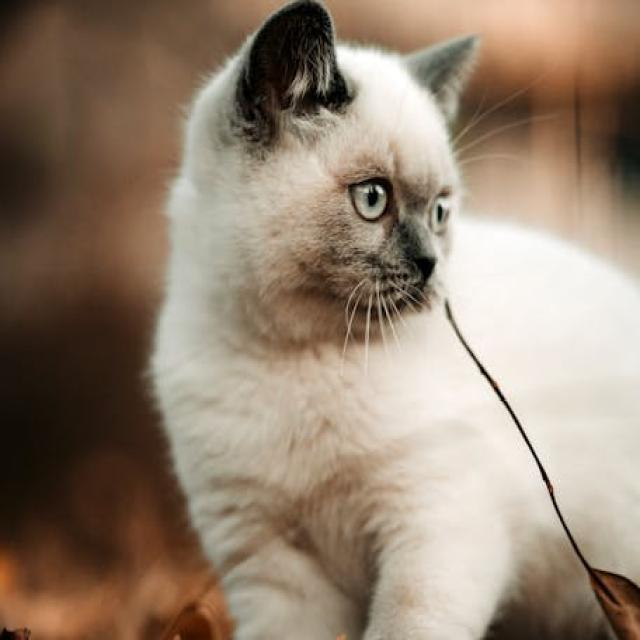Cat: (144, 0, 638, 638)
